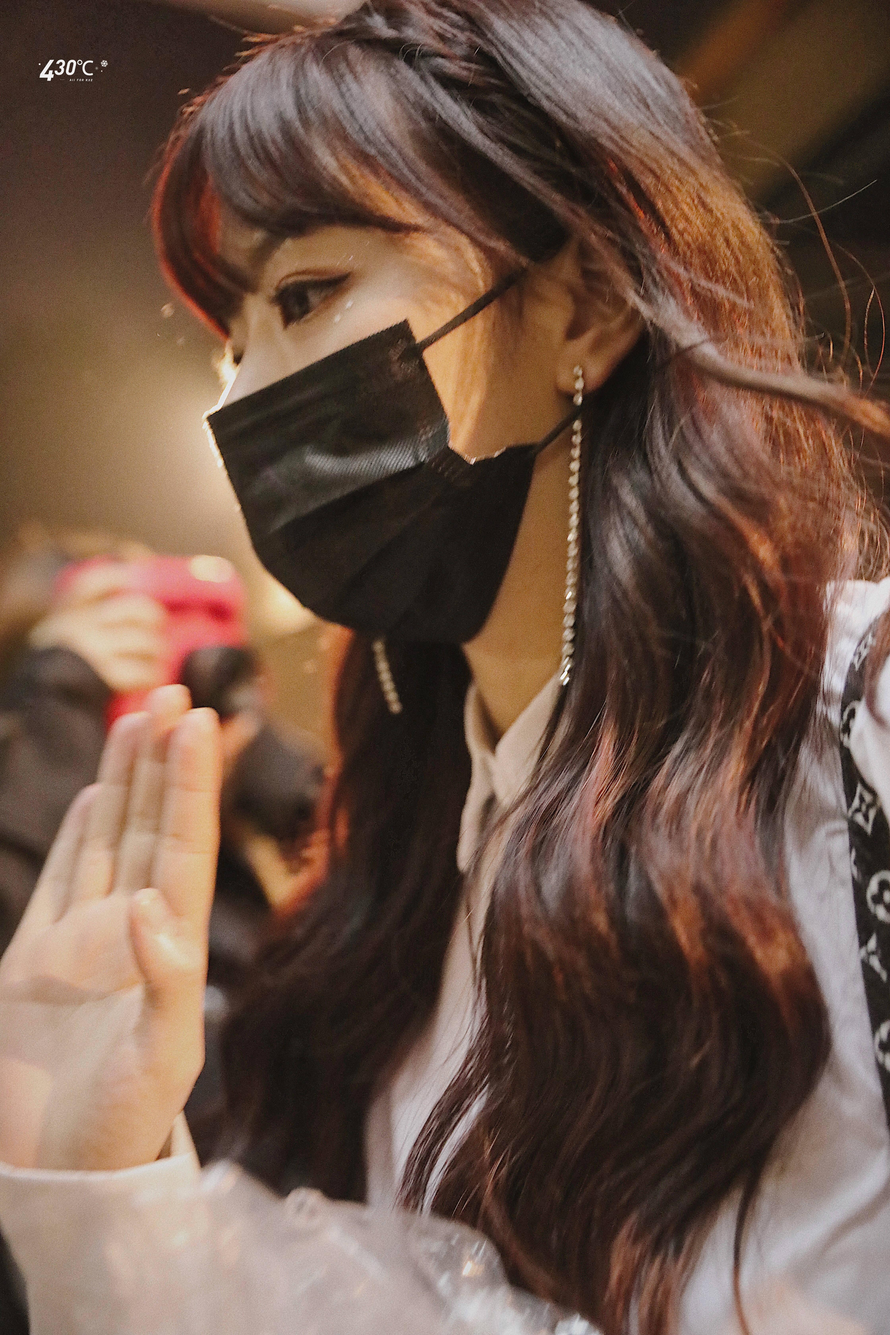OK: (207, 215, 540, 648)
